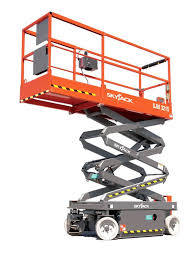Scissor Lift: (18, 11, 181, 242)
